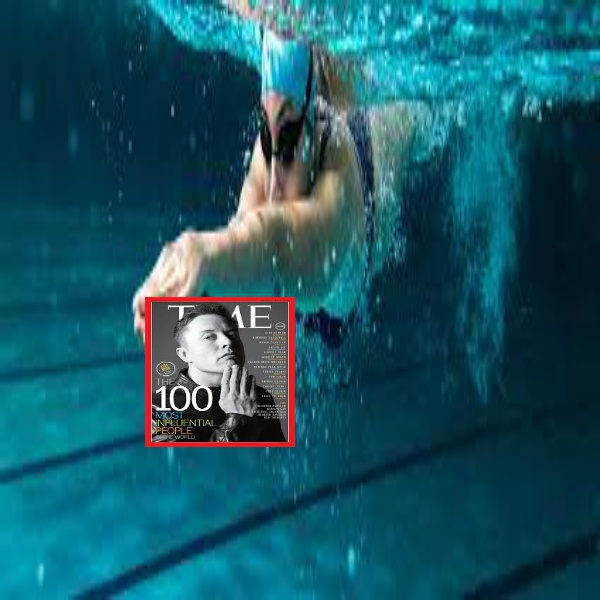time_cover: (146, 289, 299, 449)
